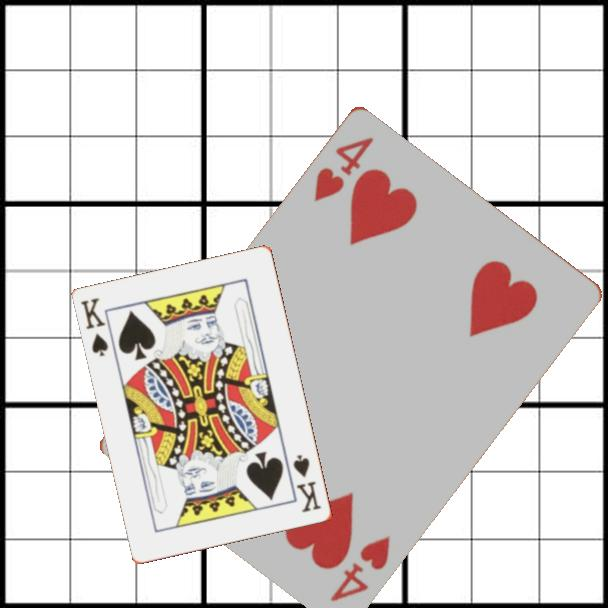h04: (326, 530, 394, 604), (310, 132, 377, 204)
s13: (290, 451, 324, 516), (78, 295, 112, 360)
